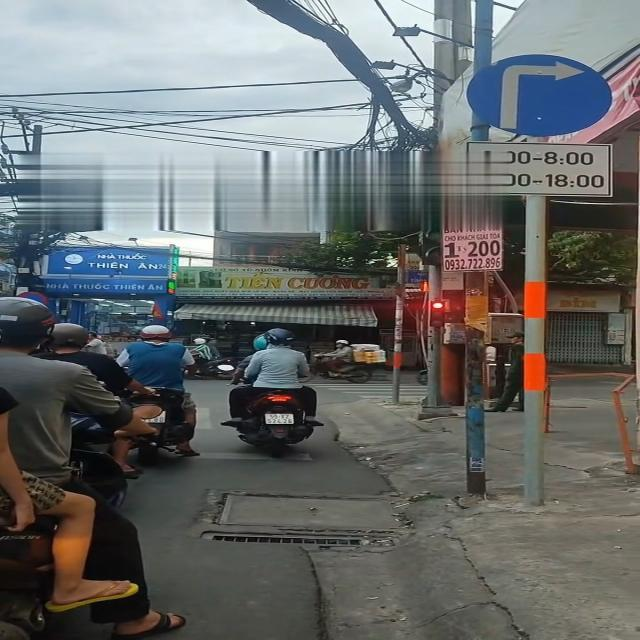301d-cac-xe-chi-duoc-re-phai-2: (472, 54, 616, 136)
